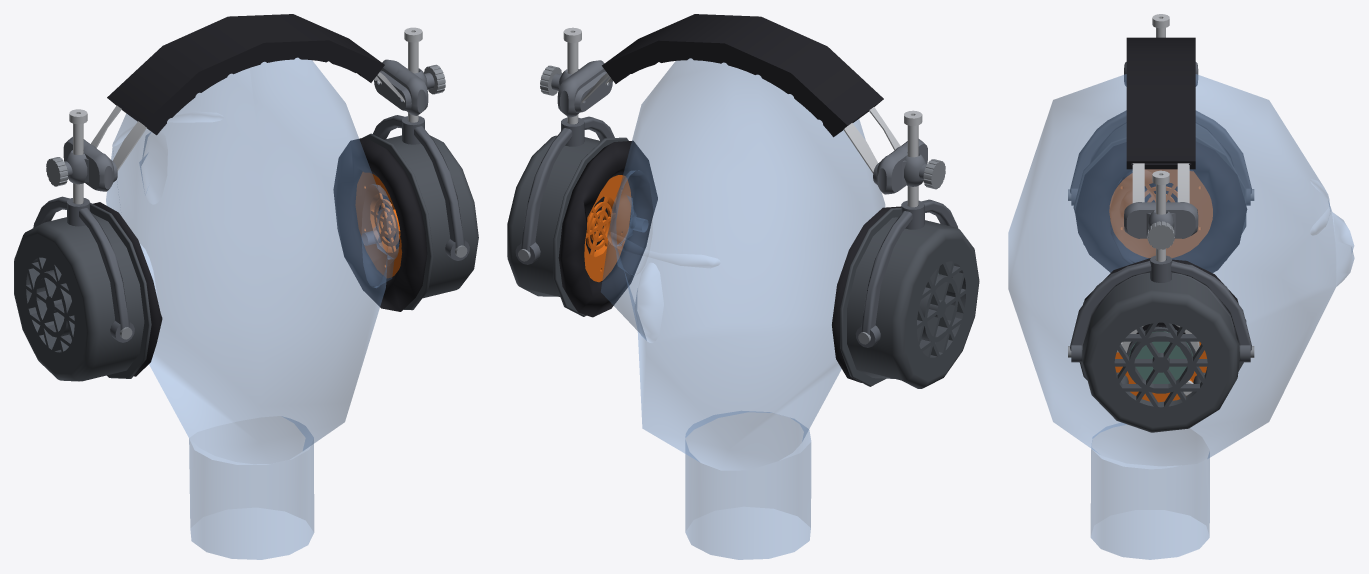
The model's file is daily-driver-l.glb.
3 renders of one model, left to right at view 1: azimuth 30°, elevation 25°; view 2: azimuth 150°, elevation 25°; view 3: azimuth 270°, elevation 25°, orthographic. The views are drawn at different scales.
Parts seen in each view (by area): view 1: head_ref, cup_L, headband_pad, earpad_R, cup_R, baffle_R, yoke_L, yoke_R, slider_L, earpad_L, slider_R, bow_ref (+3 smaller); view 2: head_ref, cup_L, headband_pad, earpad_R, cup_R, baffle_R, yoke_L, yoke_R, slider_L, earpad_L, slider_R, bow_ref (+3 smaller); view 3: head_ref, cup_R, headband_pad, earpad_L, yoke_R, baffle_L, yoke_L, slider_R, cup_L, damping_R, bow_ref, yoke_rod_R (+2 smaller).
Part boxes in pixels (x1,y1,x2,y2): head_ref: [106, 57, 399, 559]; cup_L: [14, 202, 151, 381]; headband_pad: [107, 14, 384, 135]; earpad_R: [333, 137, 427, 311]; cup_R: [362, 133, 478, 310]; baffle_R: [355, 172, 402, 278]; yoke_L: [33, 196, 134, 342]; yoke_R: [373, 115, 469, 260]; slider_L: [63, 137, 114, 191]; earpad_L: [92, 202, 162, 376]; slider_R: [381, 59, 434, 115]; bow_ref: [91, 72, 404, 170]; head_ref: [601, 58, 885, 559]; cup_L: [840, 208, 979, 388]; headband_pad: [602, 14, 883, 137]; earpad_R: [558, 141, 657, 317]; cup_R: [507, 135, 628, 316]; baffle_R: [584, 175, 631, 282]; yoke_L: [855, 199, 958, 347]; yoke_R: [515, 116, 614, 264]; slider_L: [876, 139, 927, 194]; earpad_L: [832, 206, 901, 382]; slider_R: [551, 60, 605, 117]; bow_ref: [581, 73, 900, 173]; head_ref: [1008, 74, 1354, 559]; cup_R: [1079, 264, 1246, 432]; headband_pad: [1126, 37, 1195, 169]; earpad_L: [1075, 141, 1247, 272]; yoke_R: [1070, 255, 1251, 362]; baffle_L: [1109, 169, 1212, 257]; yoke_L: [1070, 110, 1251, 205]; slider_R: [1124, 202, 1198, 238]; cup_L: [1073, 124, 1246, 260]; damping_R: [1129, 331, 1192, 383]; bow_ref: [1132, 163, 1189, 203]; yoke_rod_R: [1152, 170, 1169, 261].
Bounding box in the file's own units: 251 × 307 × 201.
